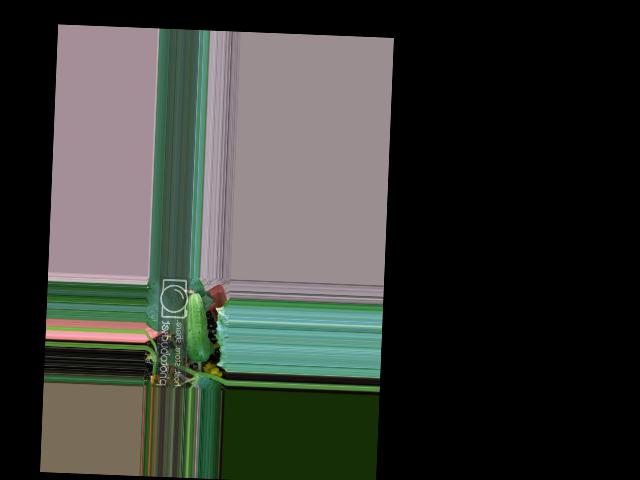cucumber: (181, 291, 212, 361)
